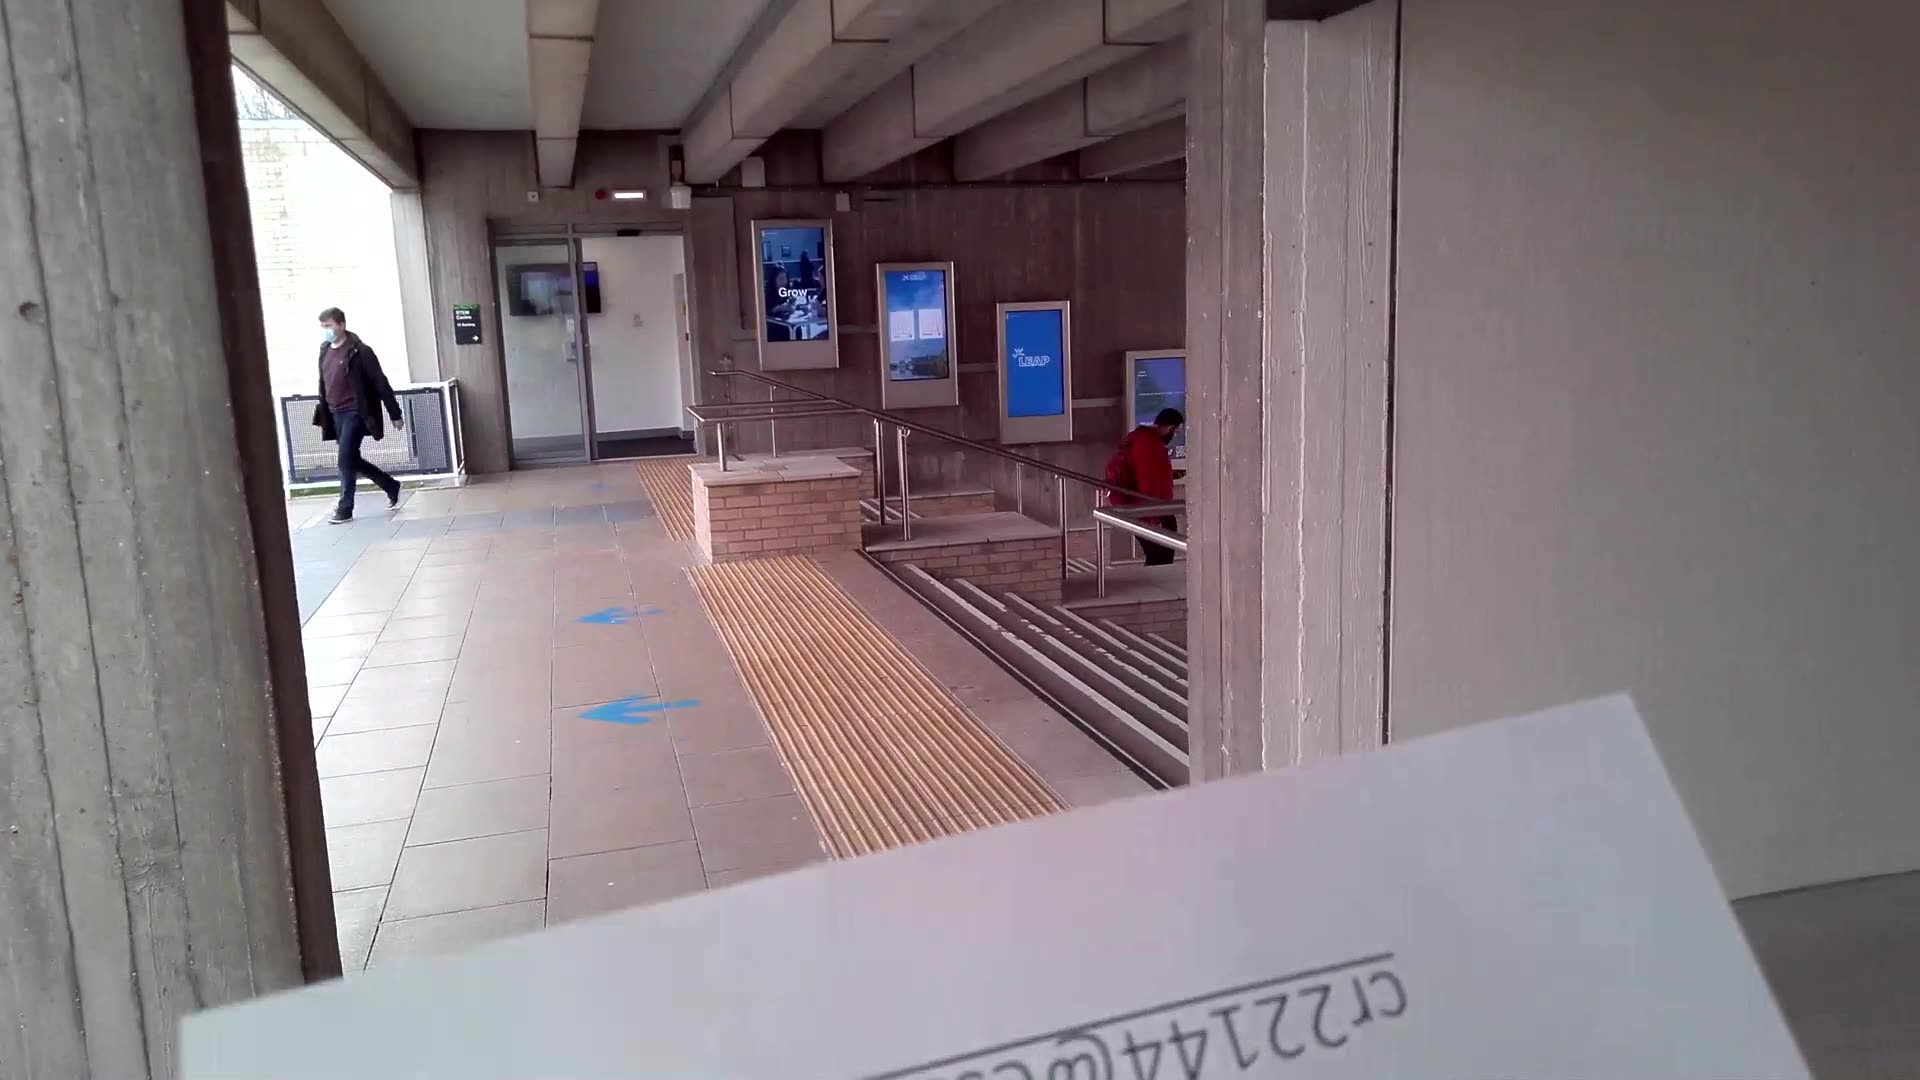Person: (300, 306, 416, 523), (1109, 399, 1198, 593)
